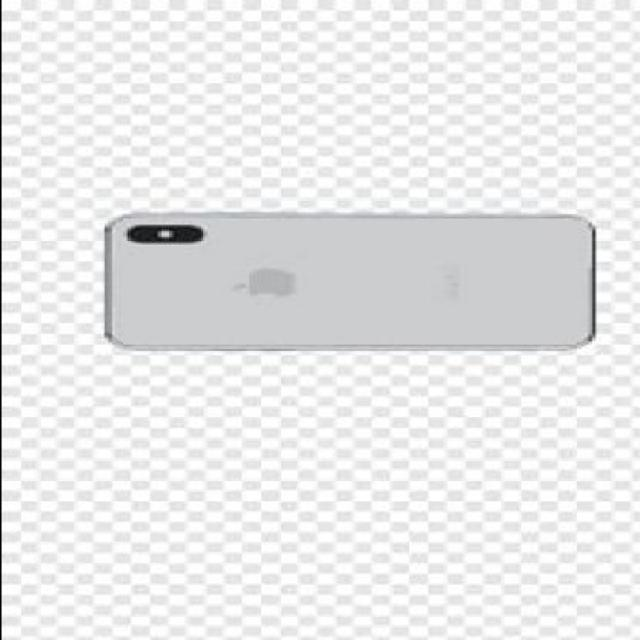phone: (103, 212, 599, 354)
